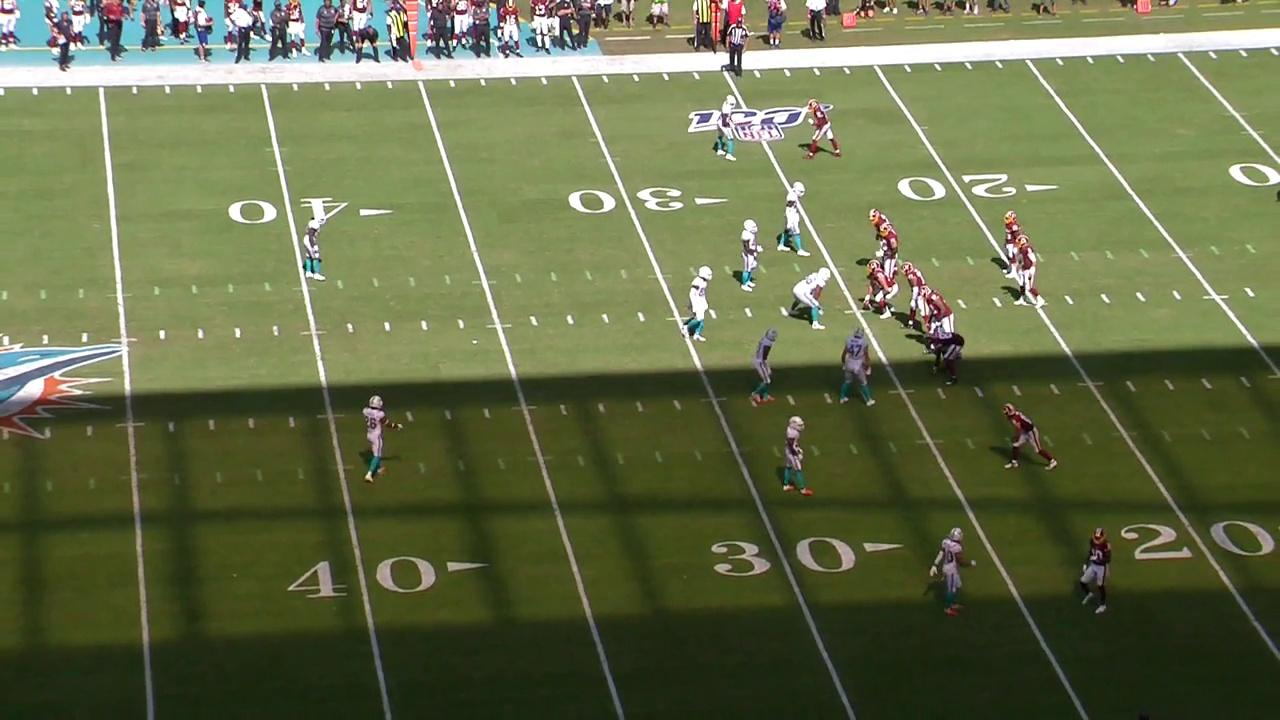defense: (929, 526, 974, 623), (354, 393, 392, 485), (841, 322, 876, 409), (295, 209, 335, 281), (776, 179, 811, 261), (789, 266, 834, 329), (682, 262, 716, 345), (782, 412, 813, 500), (750, 327, 779, 407), (712, 95, 739, 164), (739, 216, 762, 295)
oline: (918, 282, 960, 350), (864, 203, 902, 272), (862, 257, 900, 320), (901, 261, 930, 332), (879, 224, 900, 294)
qb: (1010, 234, 1048, 311)
ref: (726, 17, 746, 81)
skill: (1001, 402, 1062, 473), (1079, 525, 1111, 620), (923, 331, 969, 390), (804, 98, 842, 161), (1004, 210, 1023, 277)
